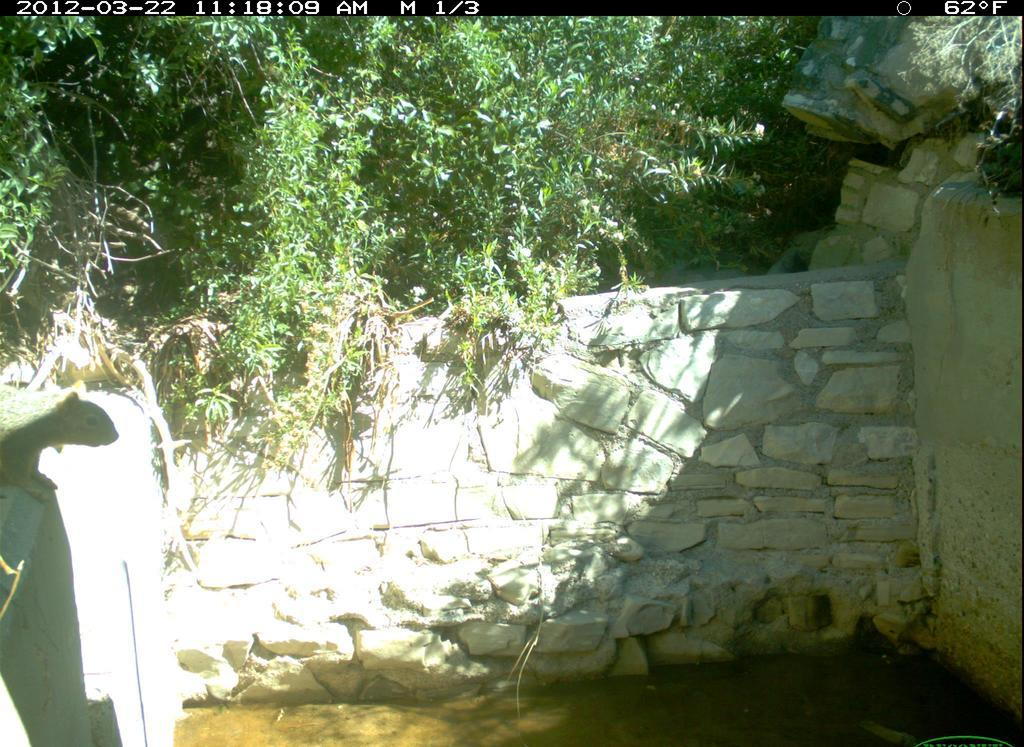squirrel: (3, 386, 132, 511)
